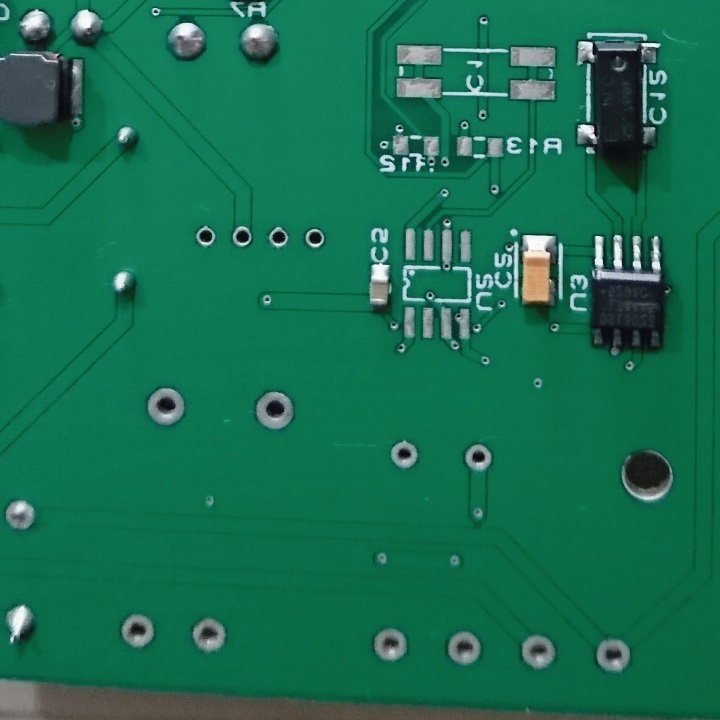F: (251, 387, 298, 436), (143, 383, 190, 430), (590, 632, 636, 674), (1, 492, 41, 538), (370, 624, 411, 667), (520, 631, 560, 675), (189, 613, 229, 657), (447, 626, 485, 671), (119, 611, 156, 654), (389, 437, 421, 473), (462, 440, 493, 476), (192, 222, 219, 252), (265, 223, 292, 252), (302, 223, 326, 252), (230, 223, 256, 249)
